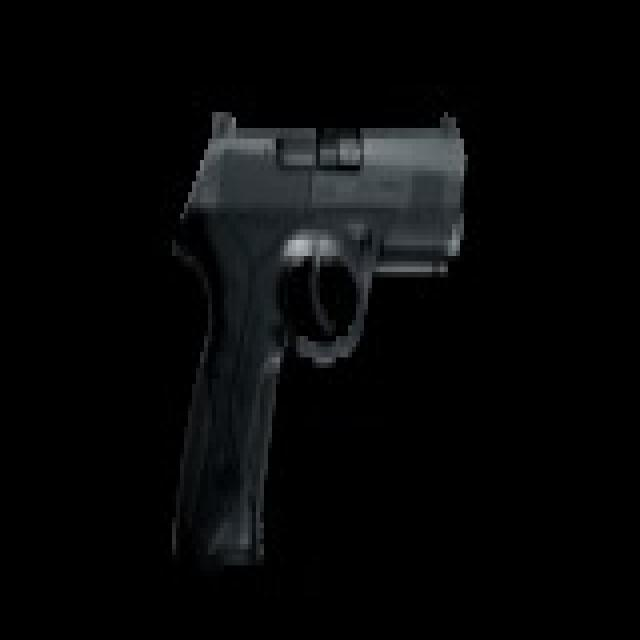Gun: (161, 76, 497, 593)
